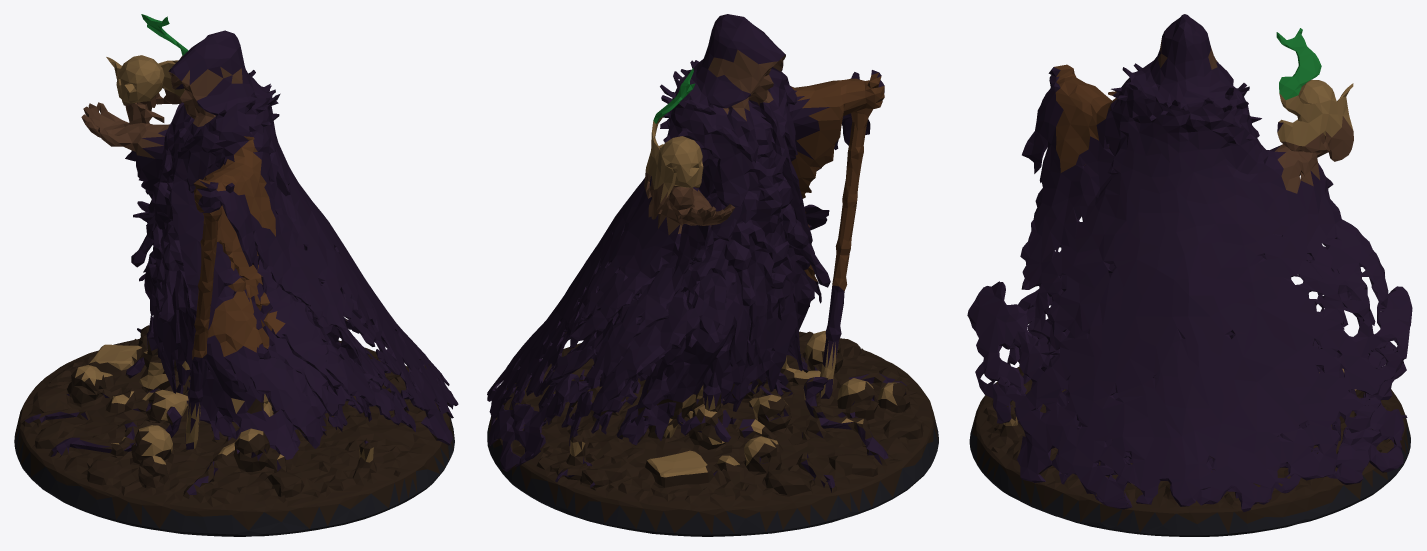
Rendered from mago_das_trevas.glb.
3 renders of one model, left to right at view 1: azimuth 30°, elevation 25°; view 2: azimuth 150°, elevation 25°; view 3: azimuth 270°, elevation 25°, orthographic. The views are drawn at different scales.
Parts seen in each view (by area): view 1: tmp7xtc2tzy.ply; view 2: tmp7xtc2tzy.ply; view 3: tmp7xtc2tzy.ply.
Boxes of the visible parts, x1,y1,x2,y2 form: tmp7xtc2tzy.ply: (14, 14, 458, 536); tmp7xtc2tzy.ply: (487, 14, 938, 536); tmp7xtc2tzy.ply: (967, 14, 1412, 536).
Size of the model in its own units: 1.88 by 1.96 by 1.89.
